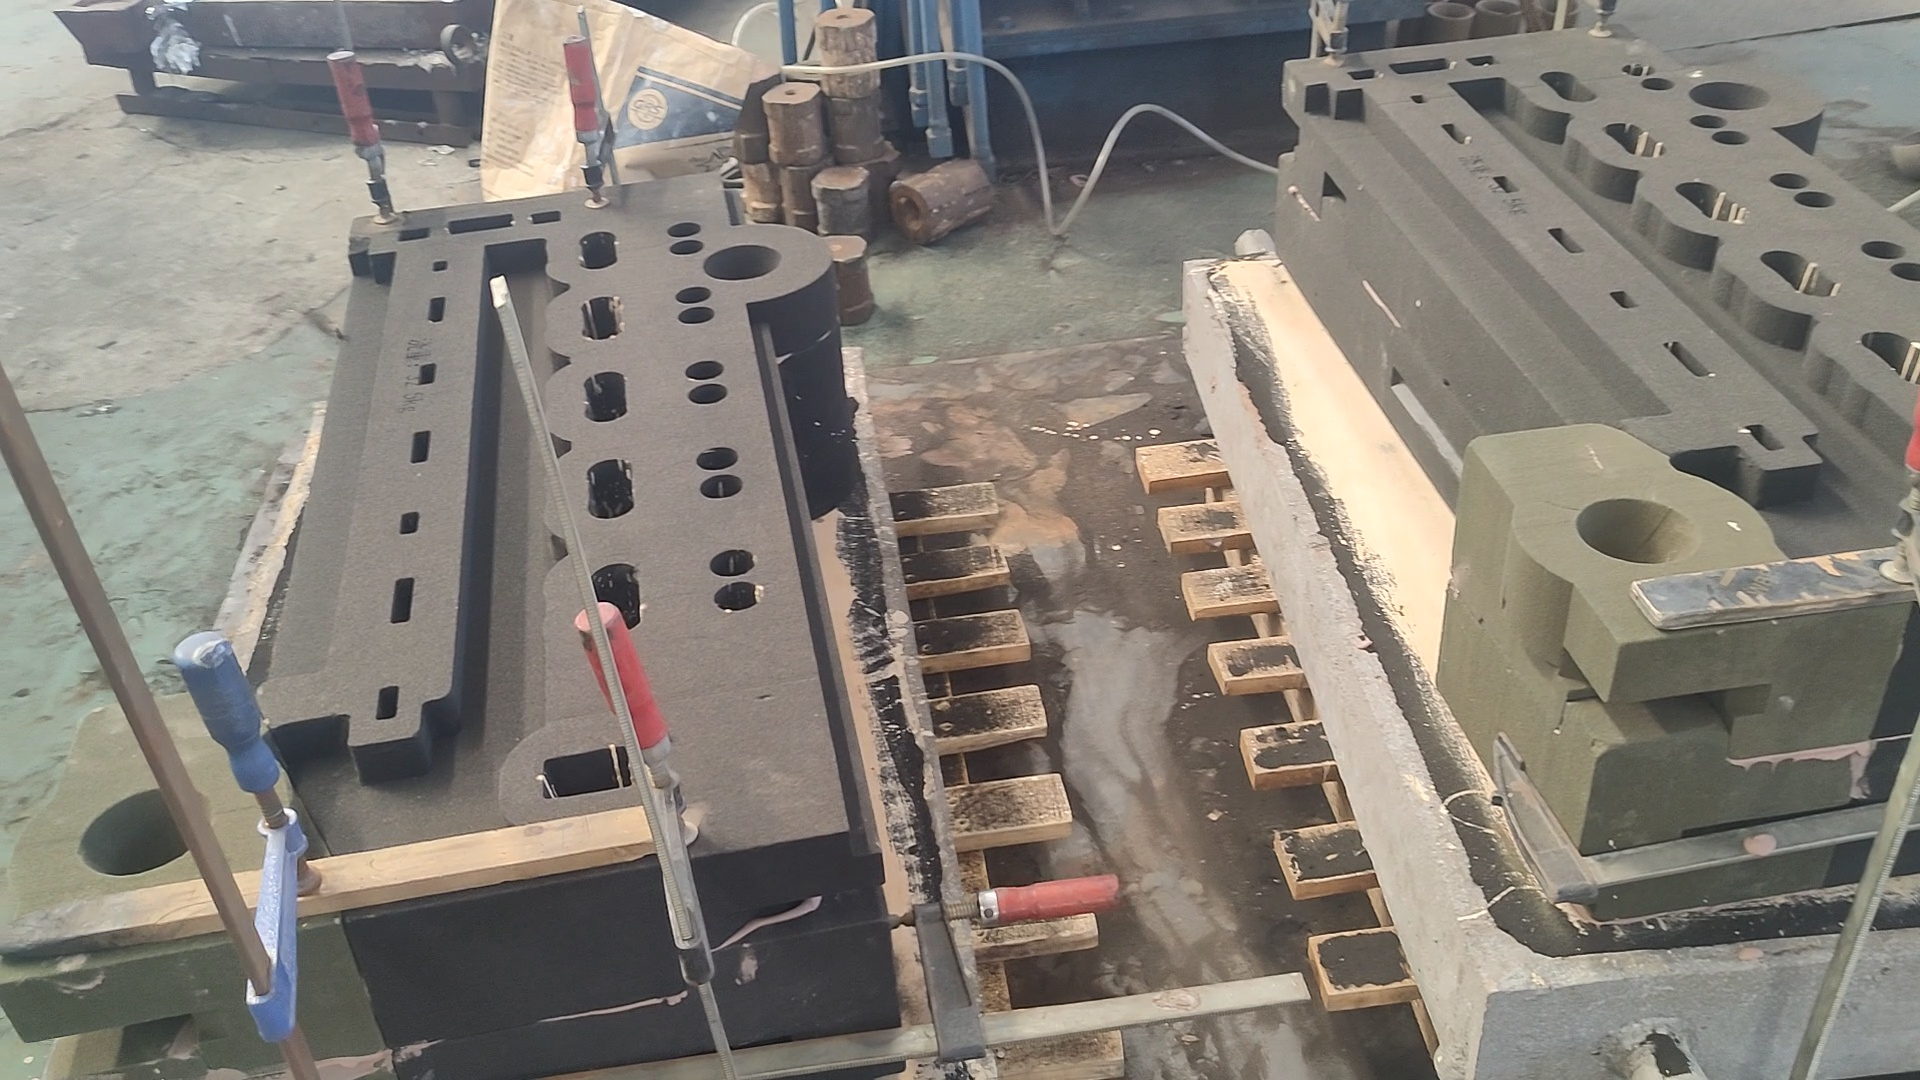pouring hole: (80, 786, 214, 876), (1577, 497, 1702, 566), (704, 245, 782, 280), (1688, 80, 1771, 109), (1428, 3, 1476, 18), (1530, 1, 1581, 15), (1477, 1, 1524, 13), (1424, 1, 1448, 3)
